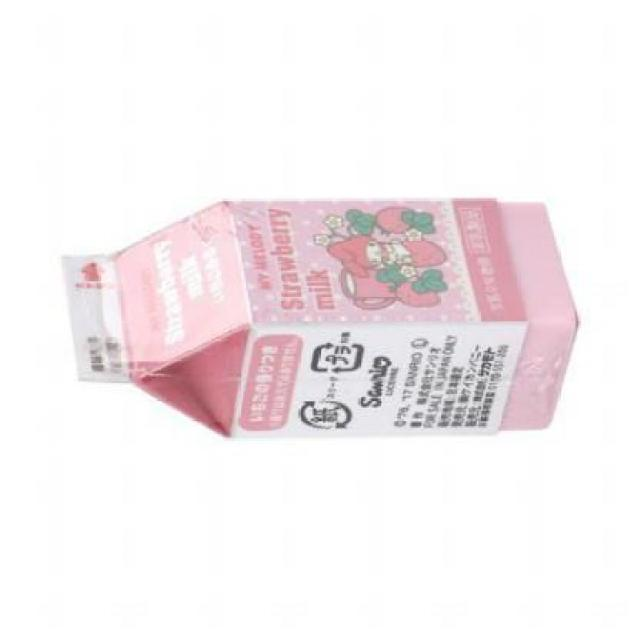non_white_jug: (58, 194, 584, 443)
